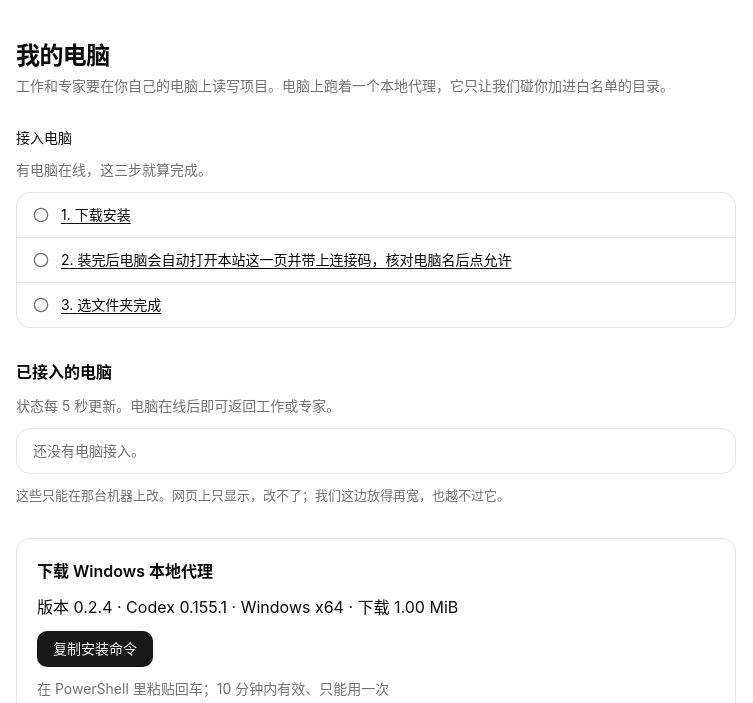
Test: 连接码 › 复制安装命令后提示剩余时间；点太快单独说明
Click the button "复制安装命令" at (95, 648), box [37, 630, 153, 666]
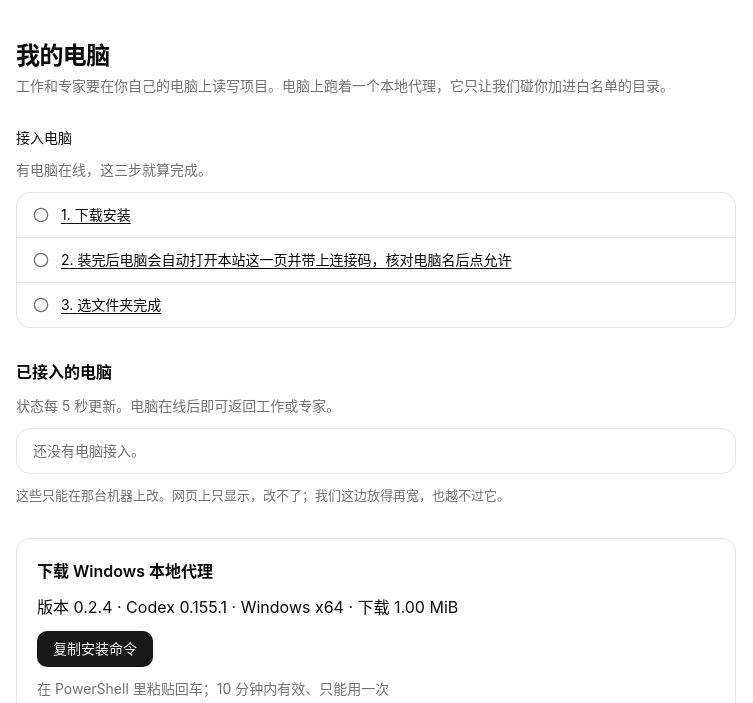
Click the button "复制安装命令" at (95, 648), box [37, 630, 153, 666]
(page scrolled)
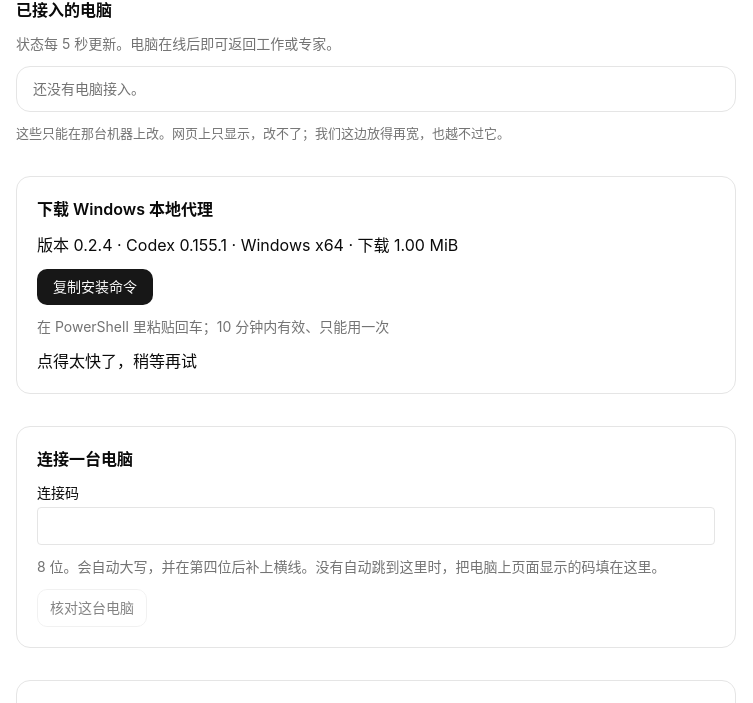
Expected: the text "点得太快了，稍等再试" is shown, [37, 350, 197, 370]
